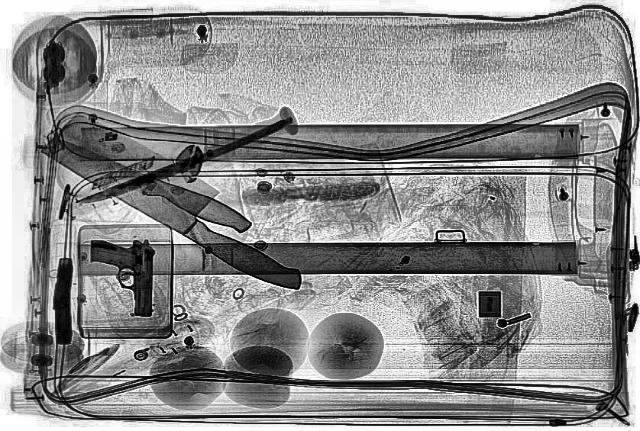Gun: (88, 238, 154, 318), (52, 256, 74, 344)
Knife: (25, 112, 347, 296), (29, 126, 259, 236), (73, 117, 297, 208)
